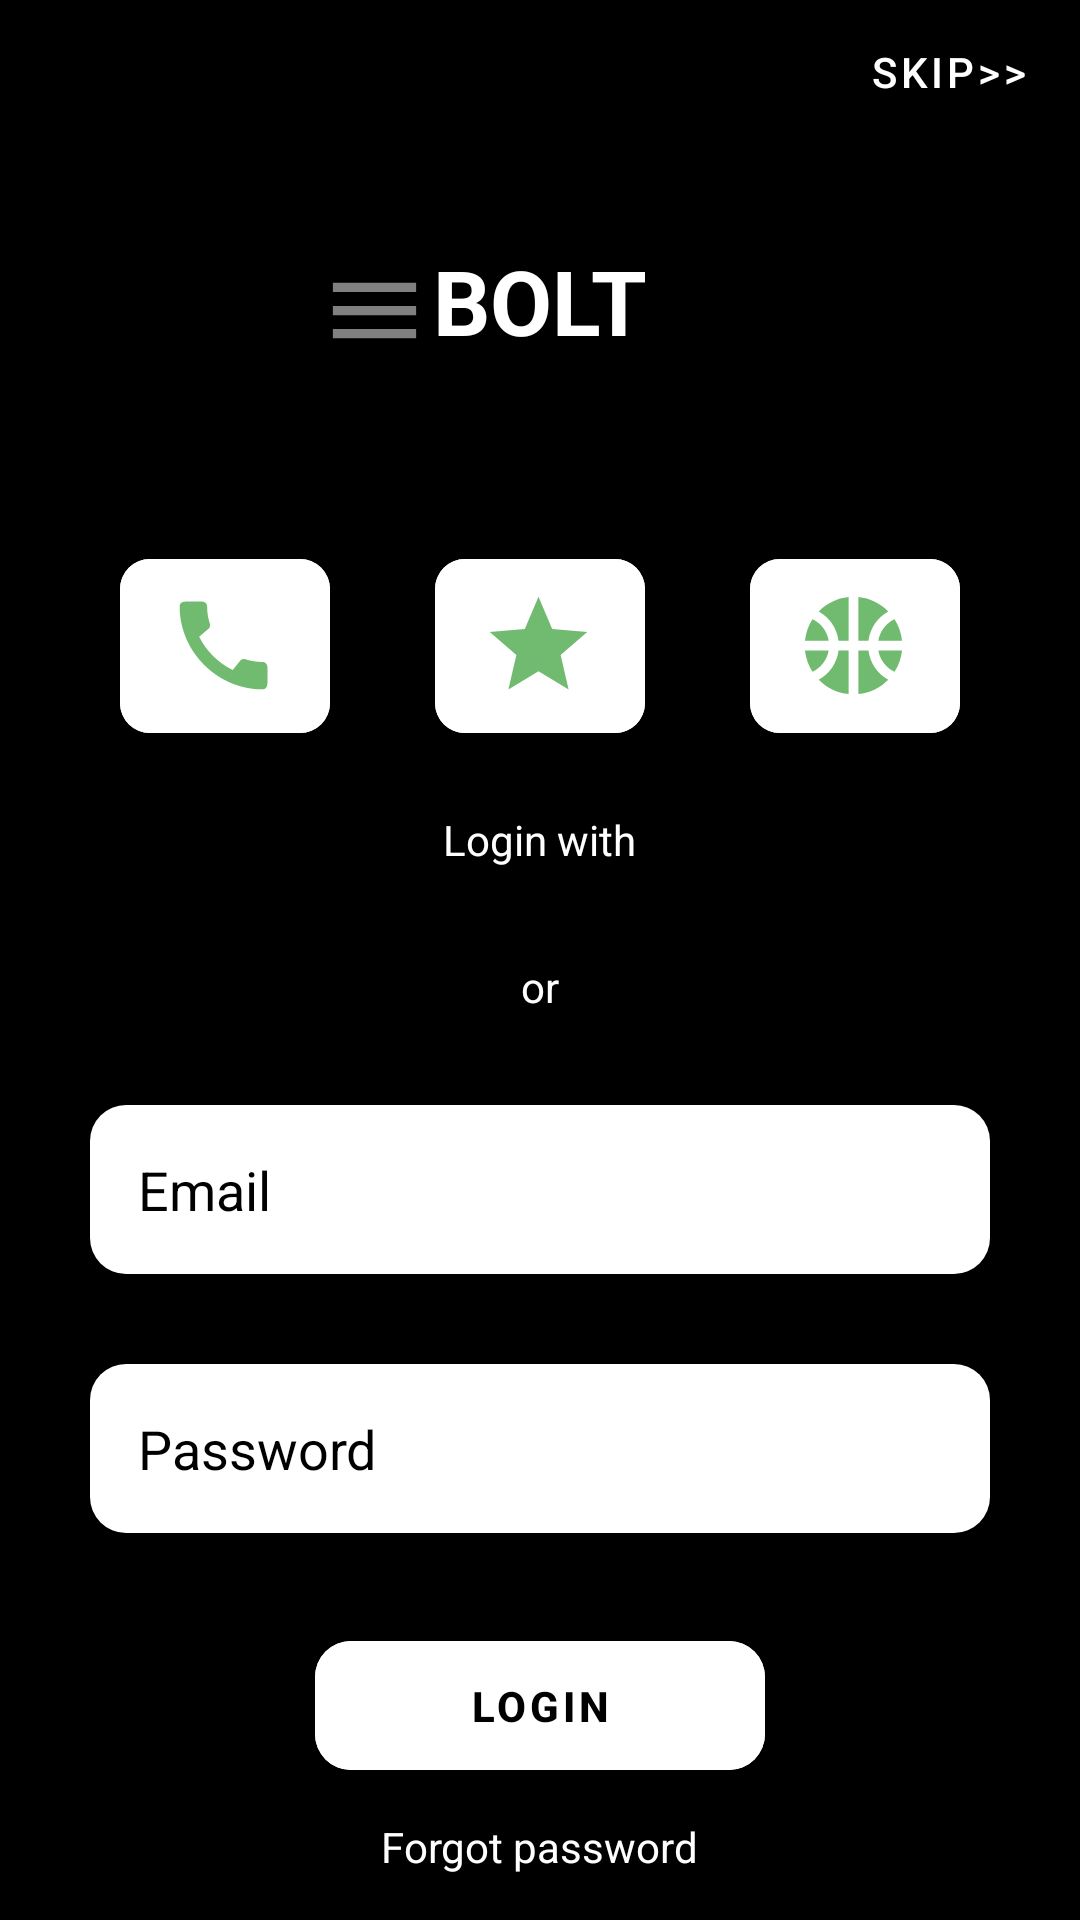

Screen size 1080 x 1920. Icon name, then its box in pixels as (x1=x1, y1=y1, x2=x2, y2=y2):
menu: (x1=333, y1=282, x2=416, y2=339)
